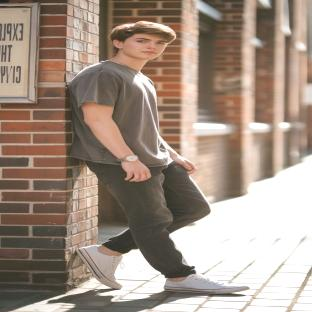Human: (69, 21, 248, 293)
